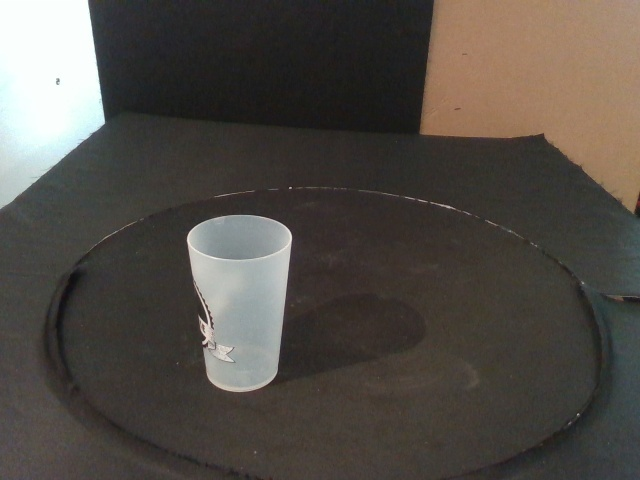glass: (186, 214, 294, 392)
